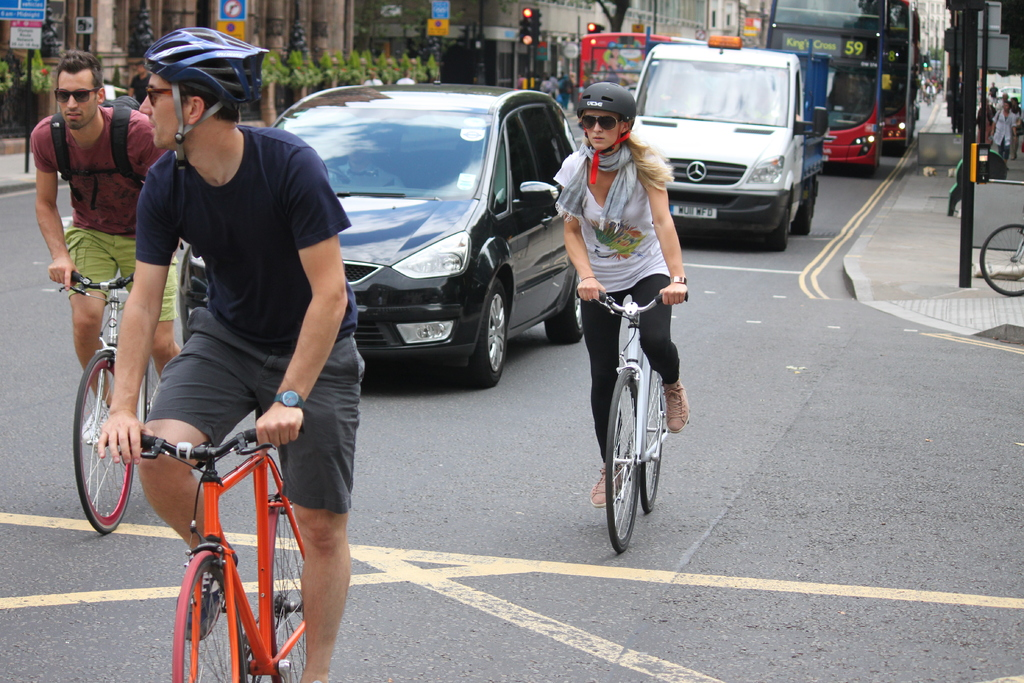Bike_toward: (86, 414, 370, 672), (45, 257, 161, 534), (578, 276, 691, 558)
